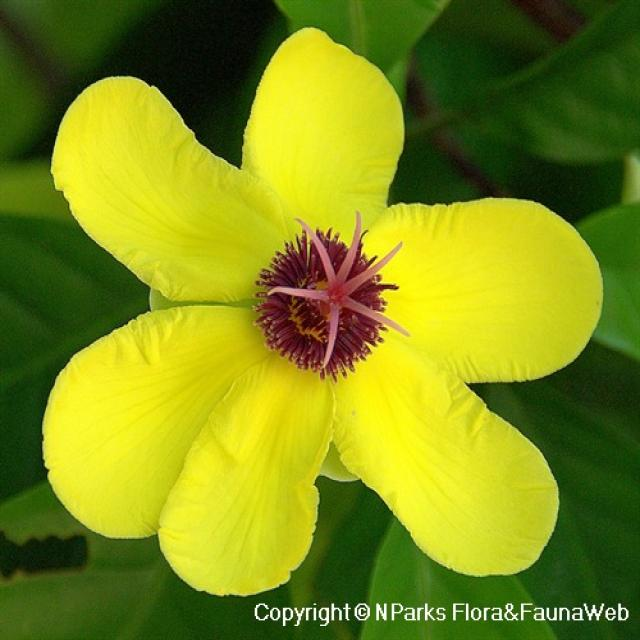Simpoh-Lak: (15, 38, 603, 591)
